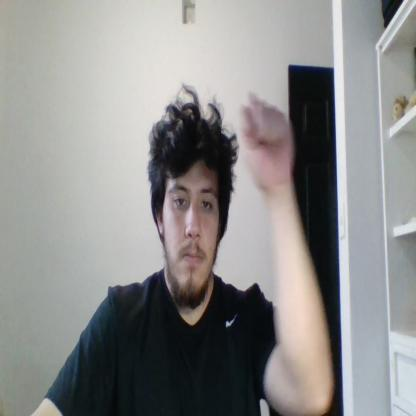T: (238, 88, 294, 186)
